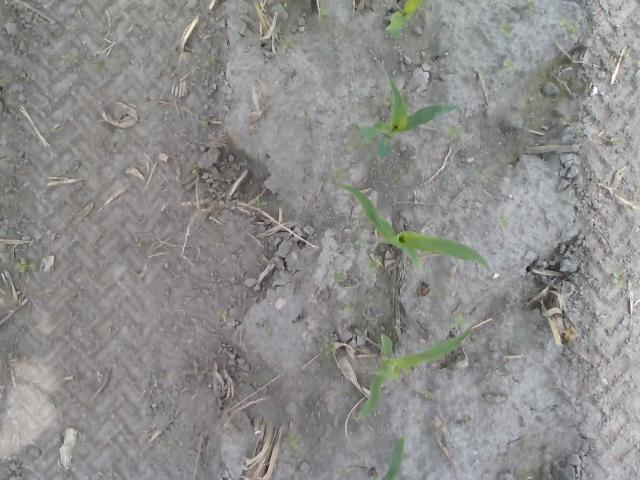Maize: (339, 184, 492, 274), (354, 324, 473, 422), (358, 68, 460, 162), (386, 2, 425, 40), (377, 436, 407, 480)
Weeds: (284, 432, 304, 456), (560, 20, 584, 36), (15, 257, 37, 274), (280, 34, 295, 54), (500, 19, 516, 37), (364, 258, 382, 274), (611, 271, 627, 288), (60, 50, 79, 64), (446, 124, 461, 140), (502, 58, 516, 73), (494, 214, 509, 228), (324, 342, 336, 359), (448, 313, 462, 326), (249, 198, 269, 207), (320, 8, 334, 19), (217, 307, 230, 318), (186, 161, 197, 174), (361, 238, 370, 252), (262, 327, 273, 338), (344, 303, 355, 313), (332, 270, 340, 283), (424, 390, 435, 399), (432, 293, 444, 301), (301, 110, 310, 120), (134, 236, 142, 246)
